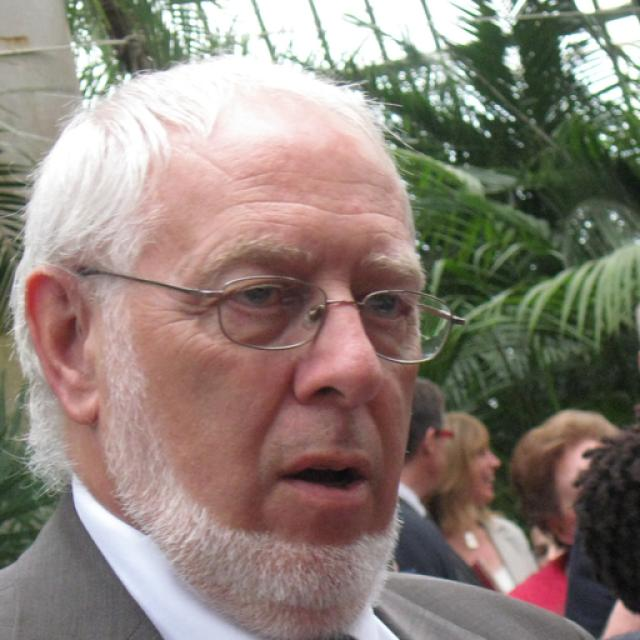Wrinkle: (229, 163, 417, 204), (236, 190, 407, 232)
